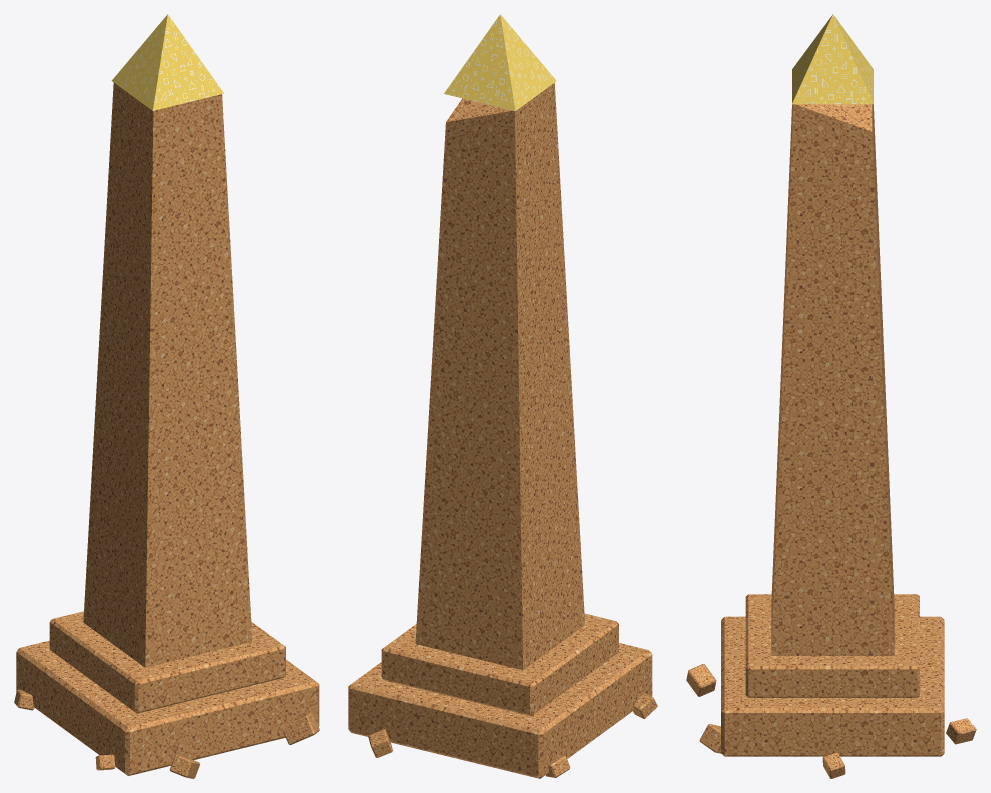
File: ruins_obelisk.glb
3 renders of one model, left to right at view 1: azimuth 30°, elevation 25°; view 2: azimuth 150°, elevation 25°; view 3: azimuth 270°, elevation 25°, orthographic.
Parts seen in each view (by area): view 1: Obelisk; view 2: Obelisk; view 3: Obelisk.
Part boxes in pixels (x1=…): Obelisk: x1=14, y1=14, x2=319, y2=778; Obelisk: x1=348, y1=14, x2=657, y2=778; Obelisk: x1=686, y1=14, x2=976, y2=778.
Bounding box in the file's own units: 6.41 × 17.4 × 6.5.
2 materials, 2 textured.
